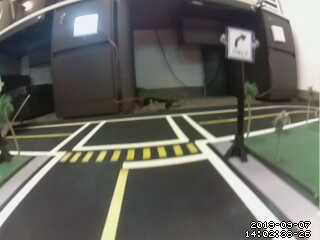Right_only_sign: (222, 24, 262, 73)
